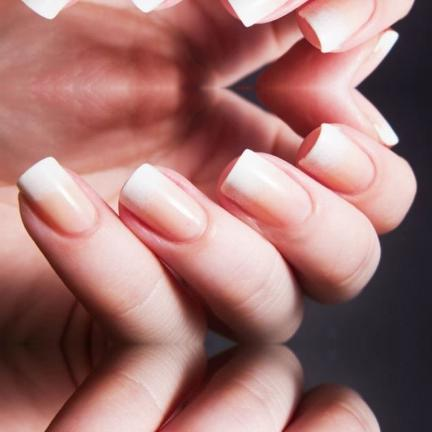Nail: (220, 149, 311, 229), (119, 163, 207, 241), (17, 156, 97, 234), (298, 122, 374, 192), (298, 0, 374, 52), (351, 89, 398, 146), (351, 28, 398, 85), (228, 0, 287, 25), (22, 0, 69, 18), (133, 0, 164, 11)
